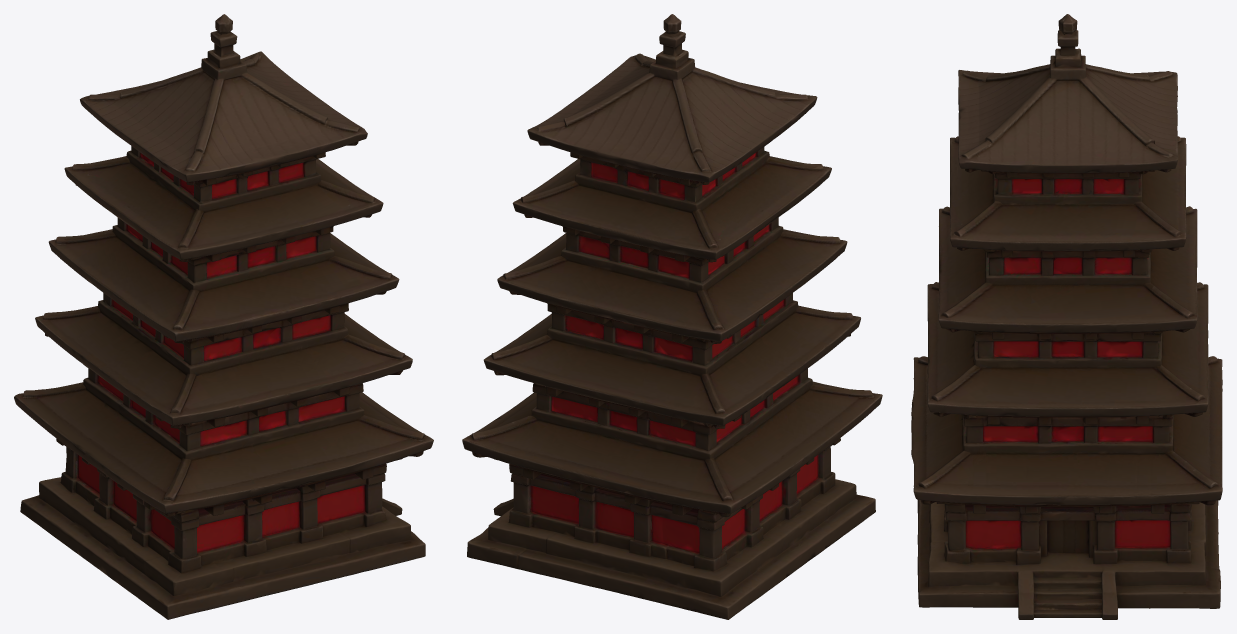
The model's file is pagodaTower.glb.
3 views of the same model, side by side, from view 1: azimuth 30°, elevation 25°; view 2: azimuth 150°, elevation 25°; view 3: azimuth 270°, elevation 25° (orthographic).
Parts seen in each view (by area): view 1: tripo_node_c340810e-b9be-4b8a-b285-774efc81cf17; view 2: tripo_node_c340810e-b9be-4b8a-b285-774efc81cf17; view 3: tripo_node_c340810e-b9be-4b8a-b285-774efc81cf17.
Part boxes in pixels (bbox=[...]): tripo_node_c340810e-b9be-4b8a-b285-774efc81cf17: bbox=[14, 14, 433, 619]; tripo_node_c340810e-b9be-4b8a-b285-774efc81cf17: bbox=[462, 14, 882, 619]; tripo_node_c340810e-b9be-4b8a-b285-774efc81cf17: bbox=[911, 14, 1222, 619].
Size of the model in its own units: 0.5823 by 1 by 0.5323.
Materials: 1 (1 with a texture image).
